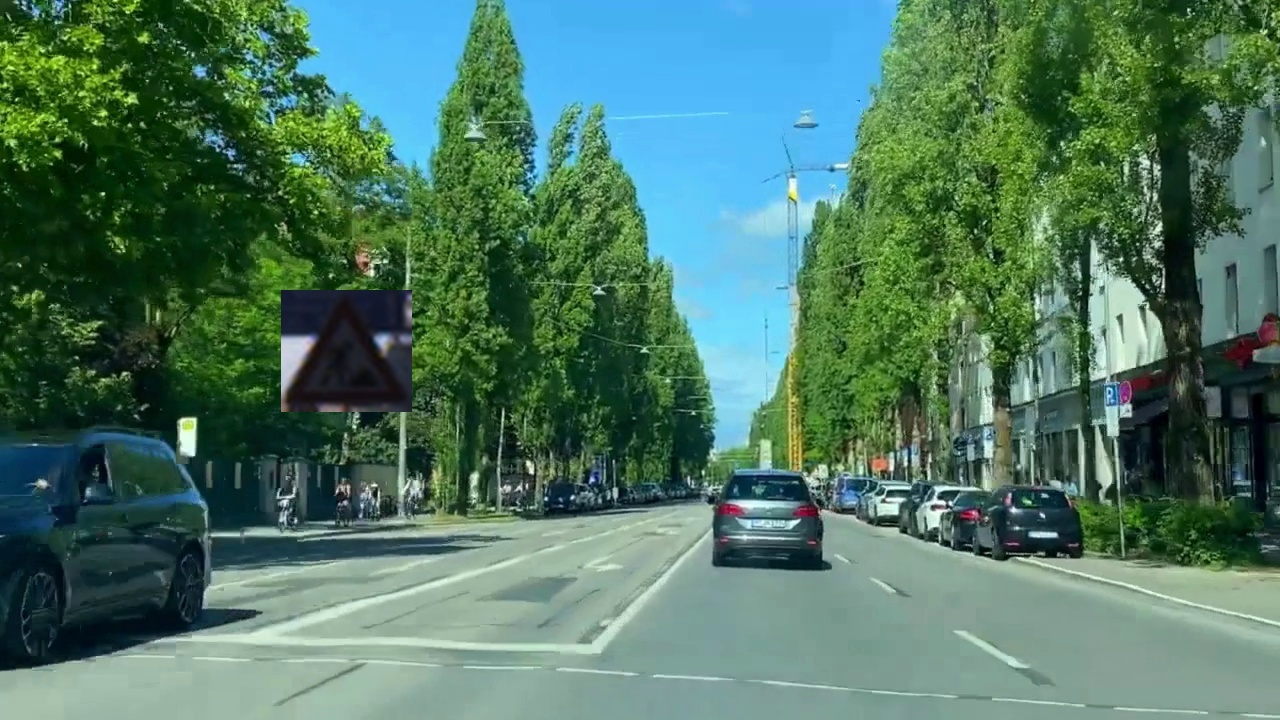Road work: (281, 290, 412, 412)
